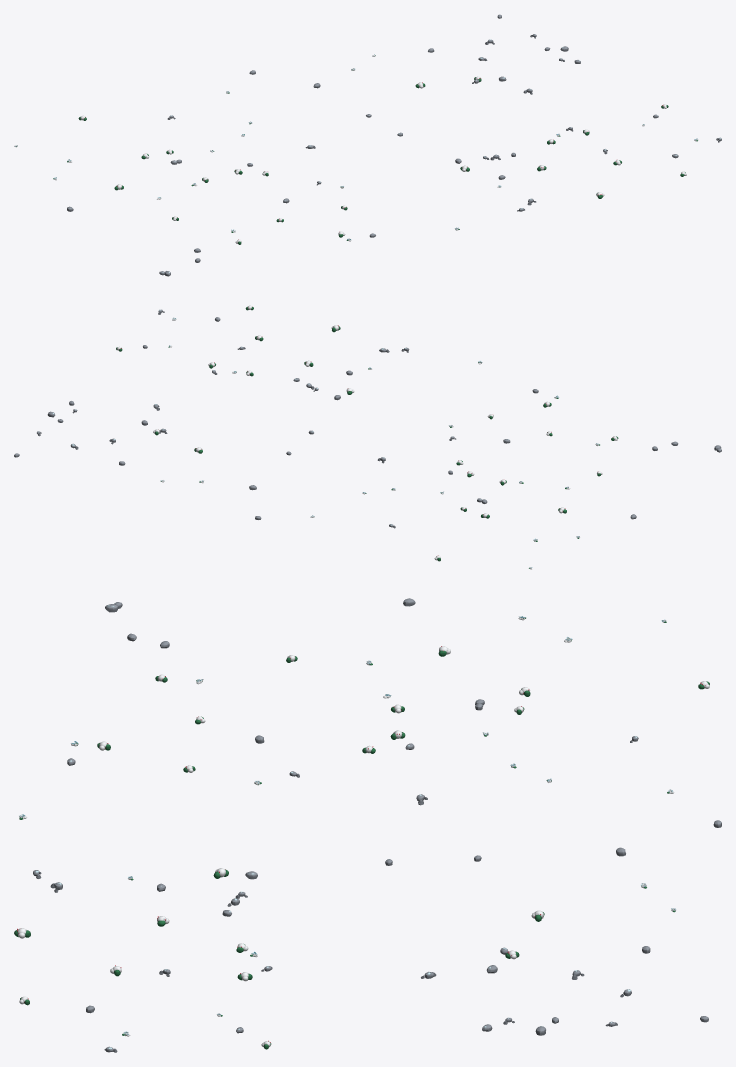
Rendered from level_4_decor.glb.
3 renders of one model, top to bottom at view 1: azimuth 30°, elevation 25°; view 2: azimuth 150°, elevation 25°; view 3: azimuth 270°, elevation 25°, orthographic. The views are drawn at different scales.
Visible parts, largest first — view 1: Chunk_0_0, Chunk_m1_m1; view 2: Chunk_0_0; view 3: Chunk_0_0, Chunk_m1_m1, Chunk_0_m1.
Part boxes in pixels (bbox=[...]): Chunk_0_0: bbox=[455, 127, 621, 211]; Chunk_m1_m1: bbox=[78, 70, 315, 186]; Chunk_0_0: bbox=[208, 325, 409, 400]; Chunk_0_0: bbox=[14, 868, 272, 981]; Chunk_m1_m1: bbox=[362, 681, 721, 827]; Chunk_0_m1: bbox=[385, 847, 676, 979].
Size of what is drawn, in the model's own units: 42.29 by 0.4031 by 28.05.
1 material, 1 textured.
